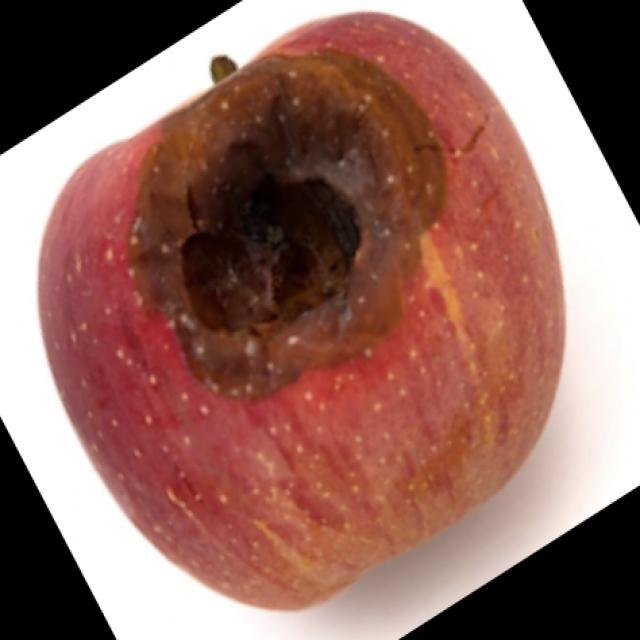Rotten: (38, 20, 565, 587)
